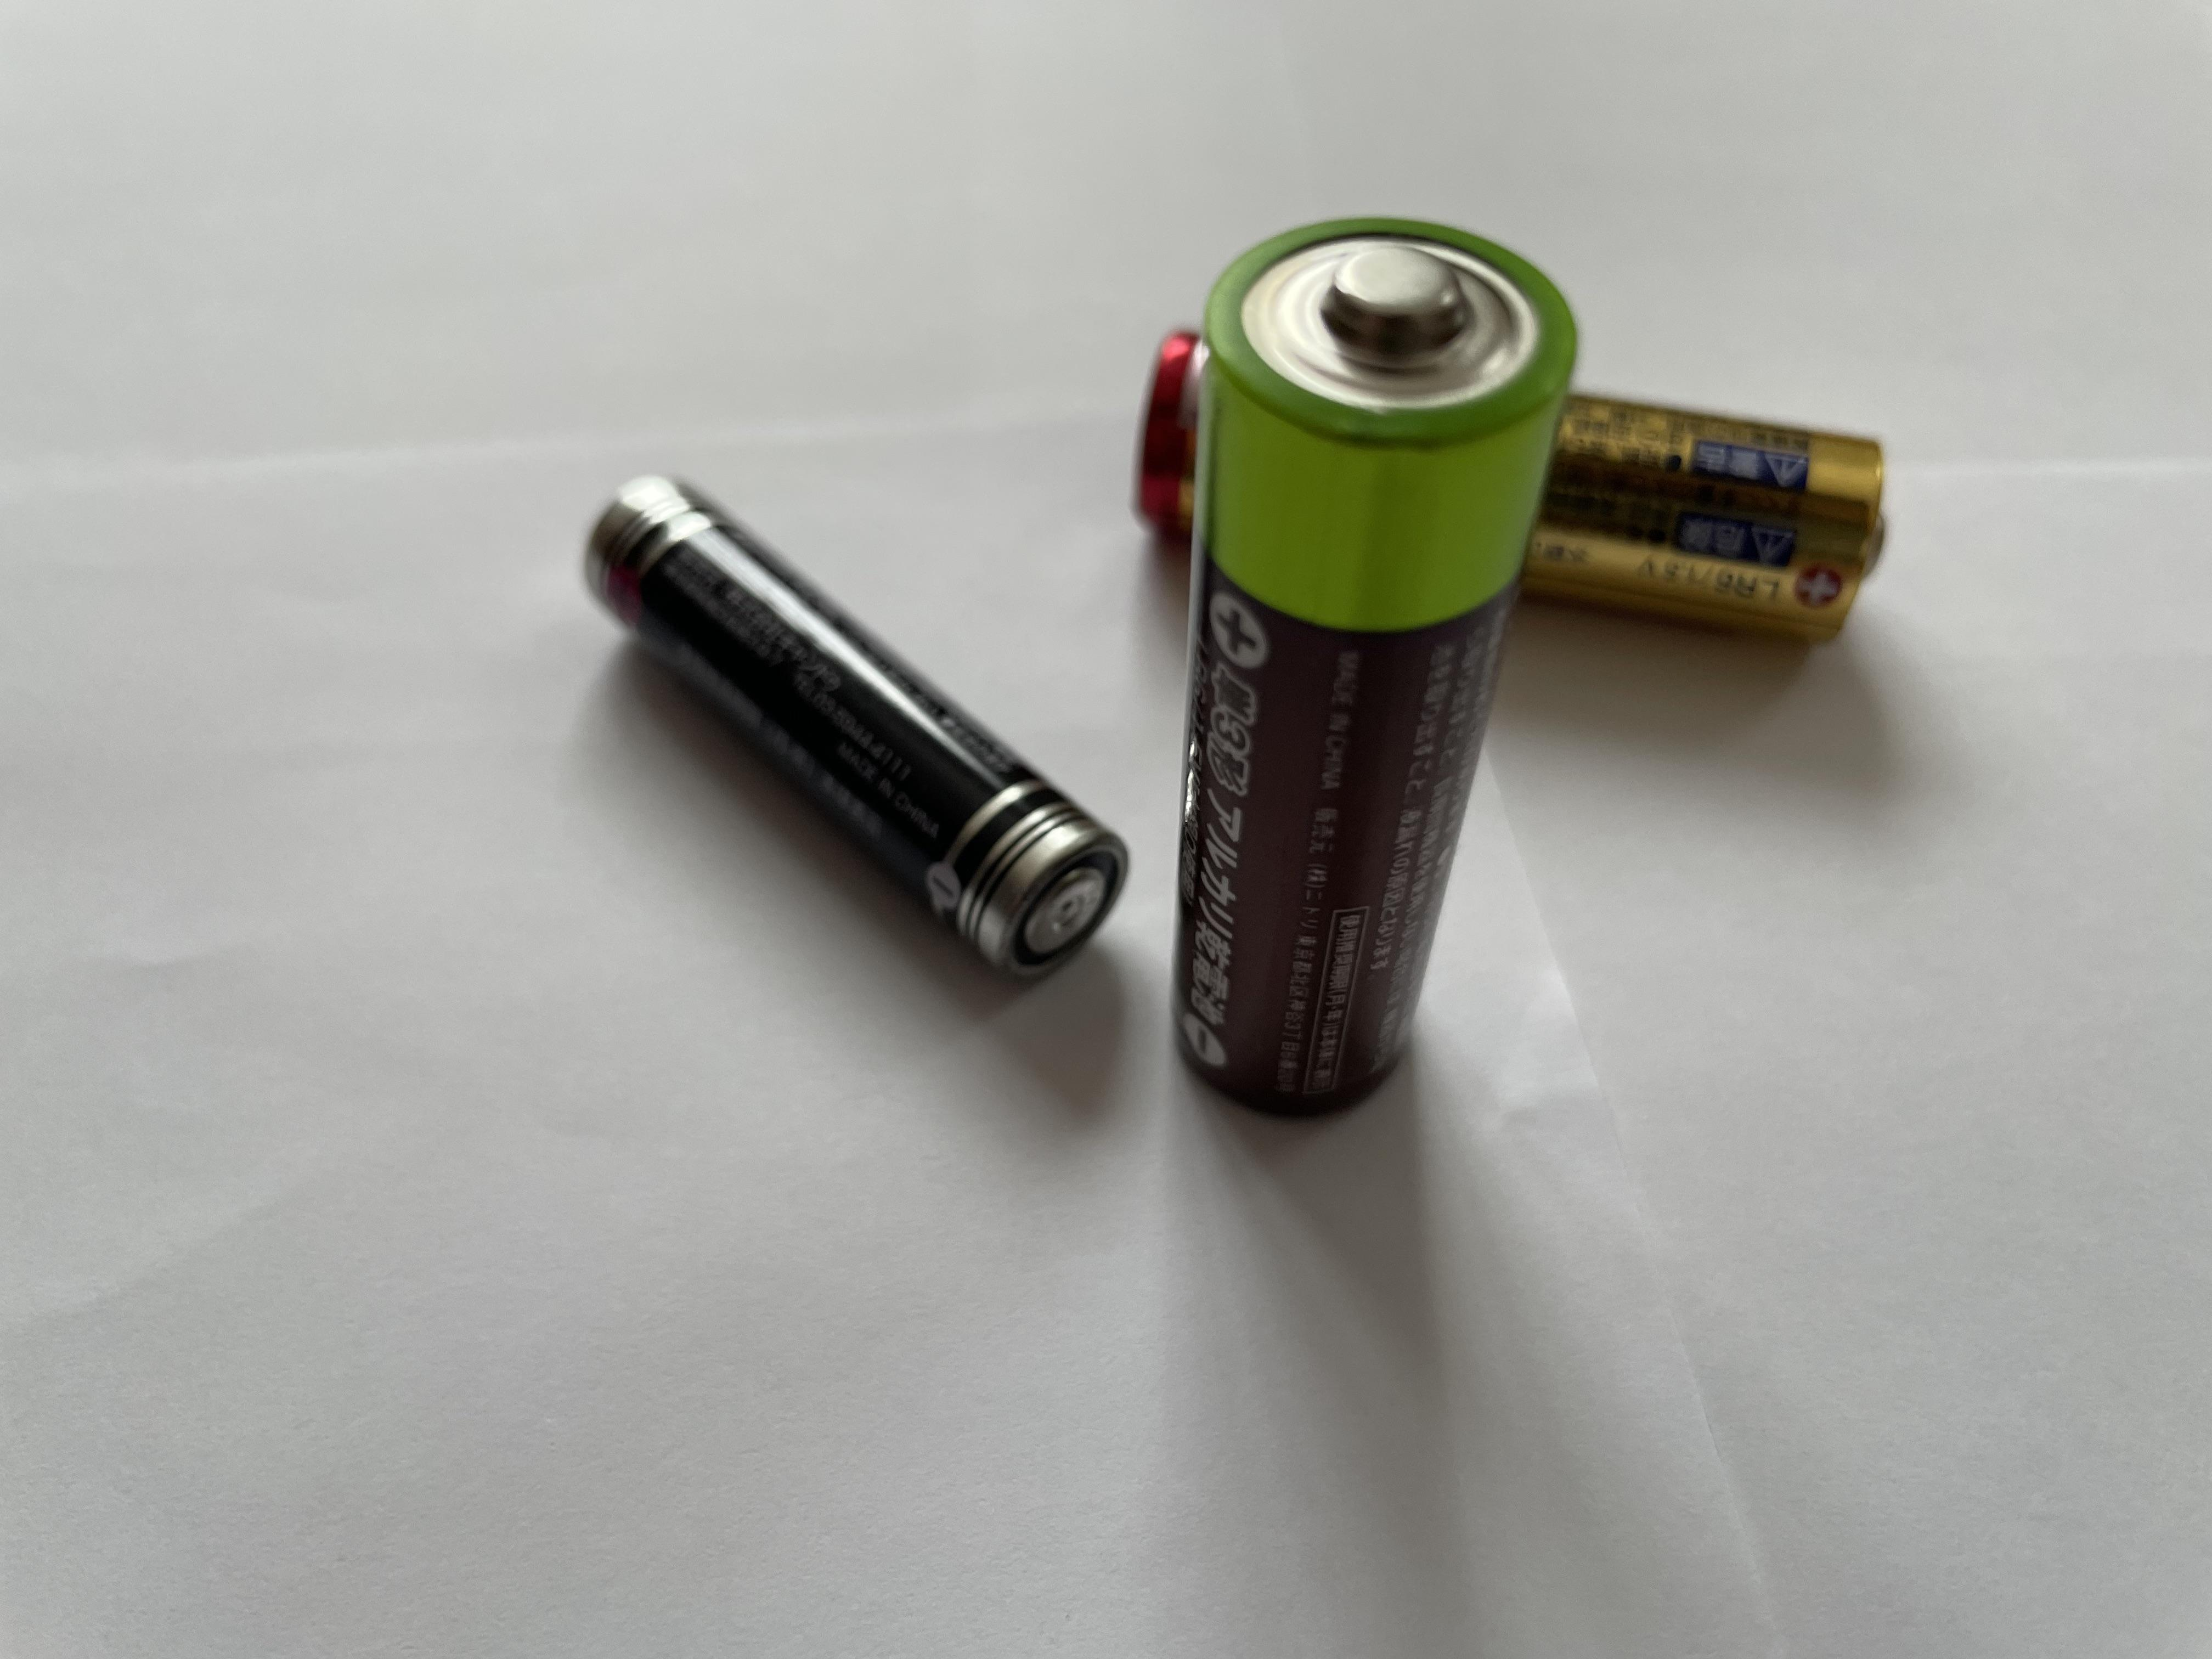Battery: (1174, 216, 1583, 1119)
